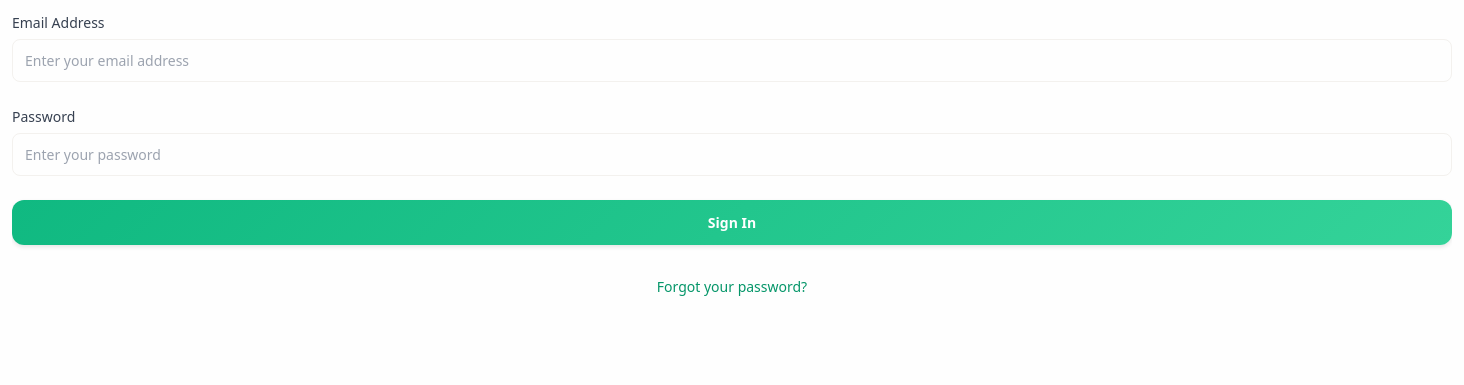
Test: Authentication Forms › SignInForm › Form Submission › handles authentication errors
# Fill and submit form
Type "test@example.com" into the field labelled "Email Address" at coordinates (732, 60), box [12,39,1452,82]
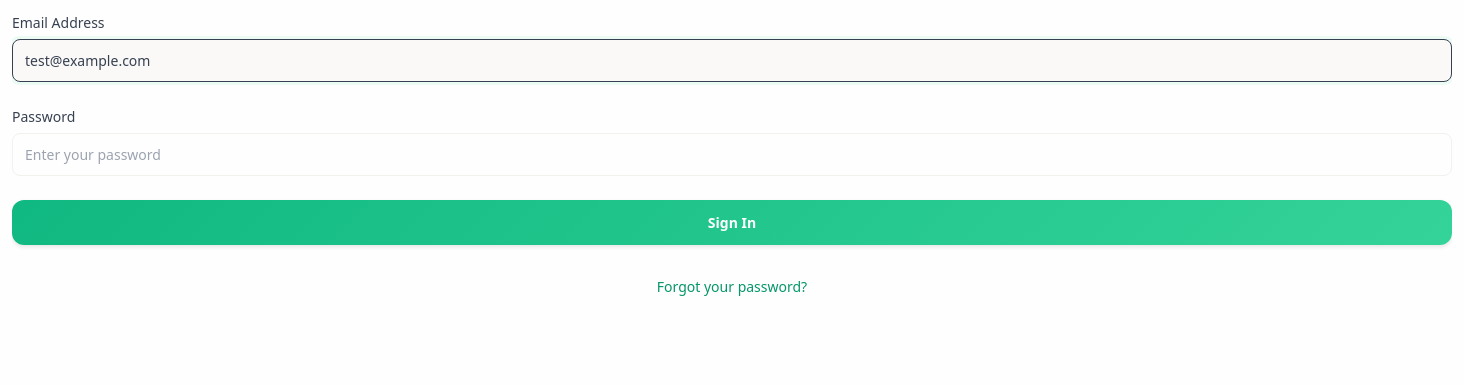
Type "wrongpassword" into the password field labelled "Password" at coordinates (732, 154), box [12,133,1452,176]
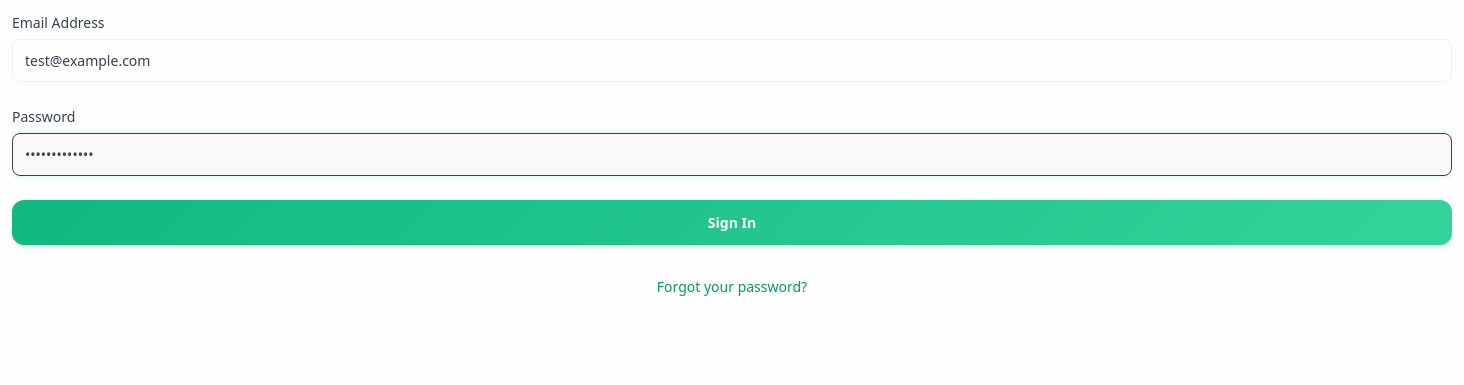
Click the button "Sign In" at coordinates (732, 222), box [12,200,1452,245]
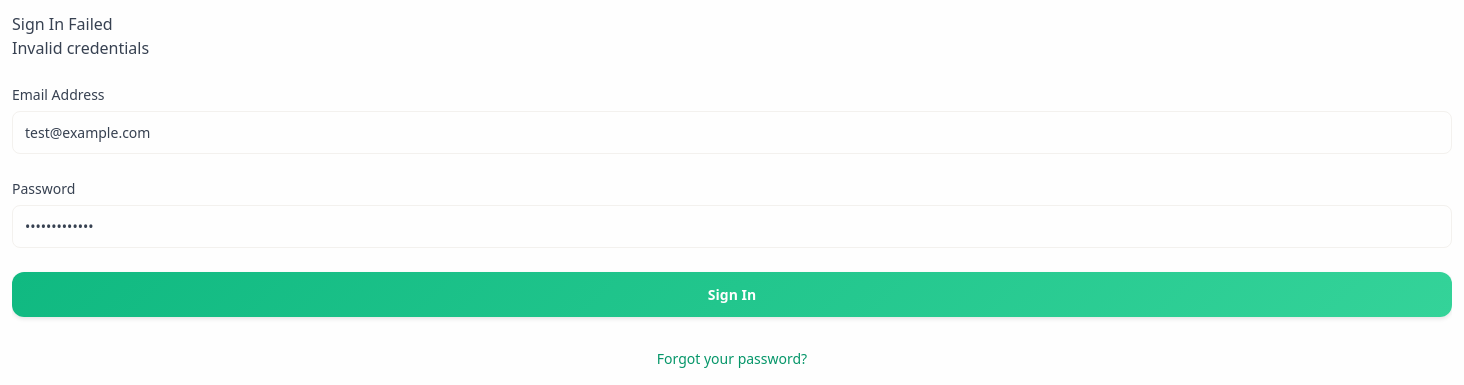
Check: the list item "Invalid credentials" is shown, box [12,37,149,59]
